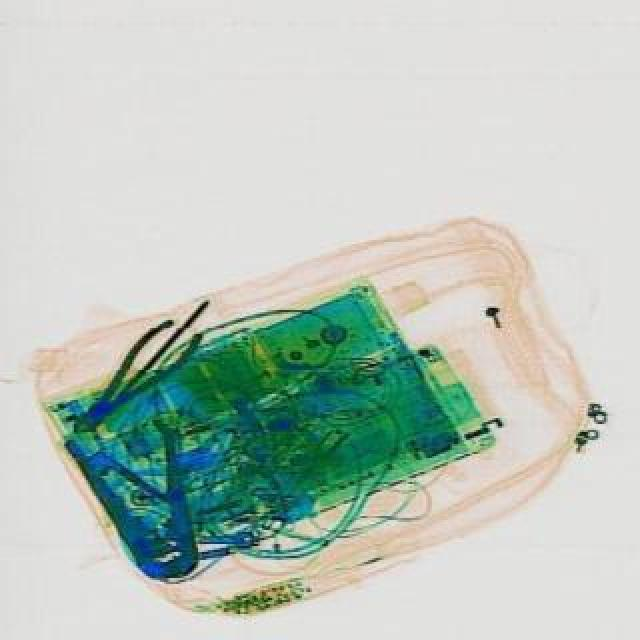wrench: (60, 404, 224, 592), (52, 304, 210, 446)
